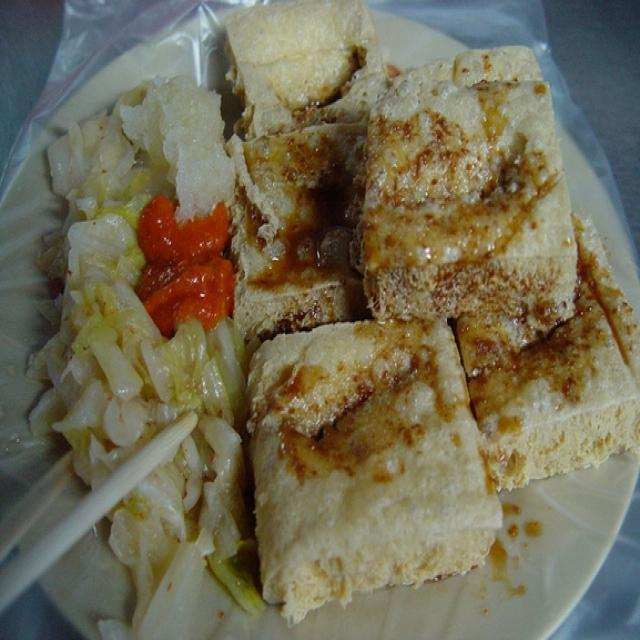豆腐料理: (16, 2, 621, 628)
